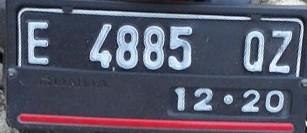clone-license-plate: (17, 5, 303, 123)
